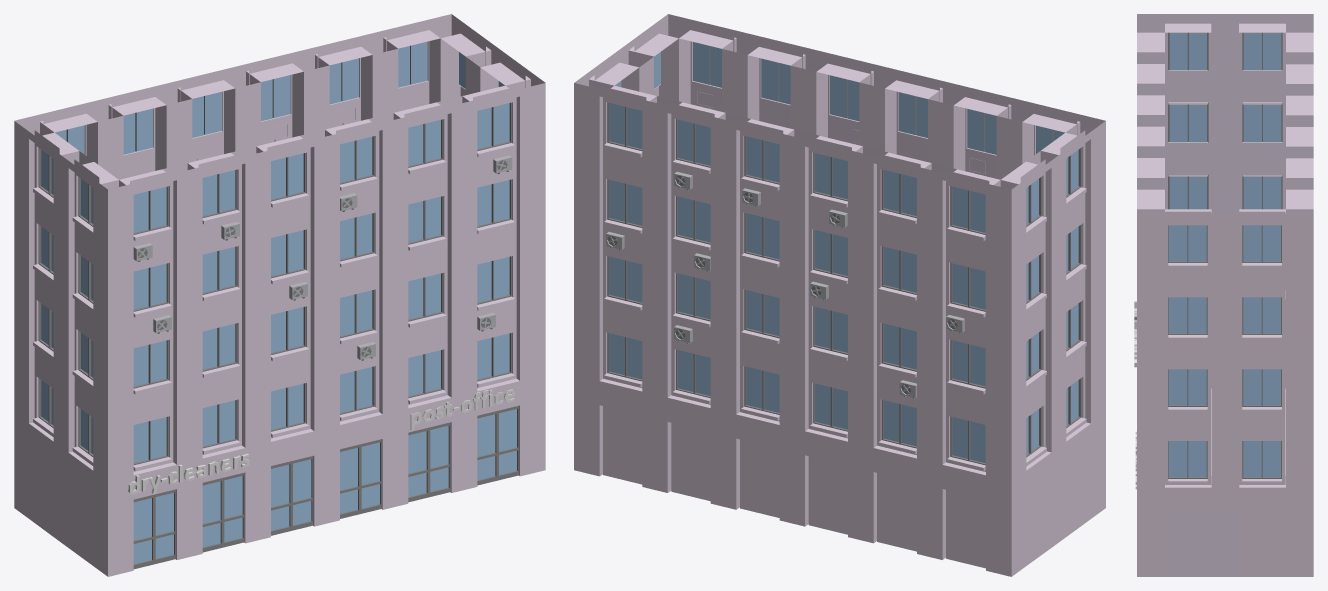
The model's file is cityscene2_30.gltf.
3 views of the same model, side by side, from view 1: azimuth 30°, elevation 25°; view 2: azimuth 150°, elevation 25°; view 3: azimuth 270°, elevation 25° (orthographic). The views are drawn at different scales.
Parts seen in each view (by area): view 1: cityscene2_30; view 2: cityscene2_30; view 3: cityscene2_30.
Boxes of the visible parts, x1=… form: cityscene2_30: x1=14, y1=14, x2=545, y2=576; cityscene2_30: x1=574, y1=14, x2=1105, y2=576; cityscene2_30: x1=1134, y1=14, x2=1313, y2=576.
Size of the model in its own units: 11.42 by 9.69 by 4.33.
